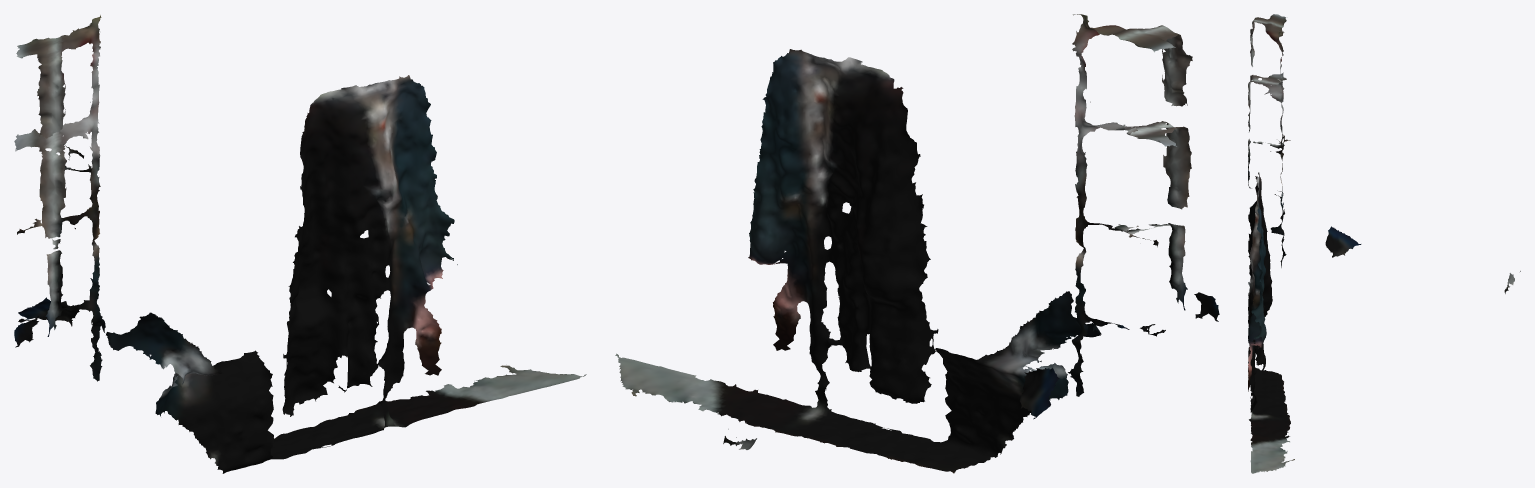
File: color_model_f008_20251226_161545.obj
3 renders of one model, left to right at view 1: azimuth 30°, elevation 25°; view 2: azimuth 150°, elevation 25°; view 3: azimuth 270°, elevation 25°, orthographic. The views are drawn at different scales.
Size of the model in its own units: 2.12 by 1.66 by 1.35.
